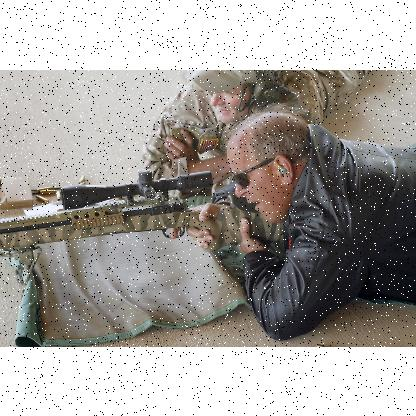gun: (0, 166, 280, 250)
